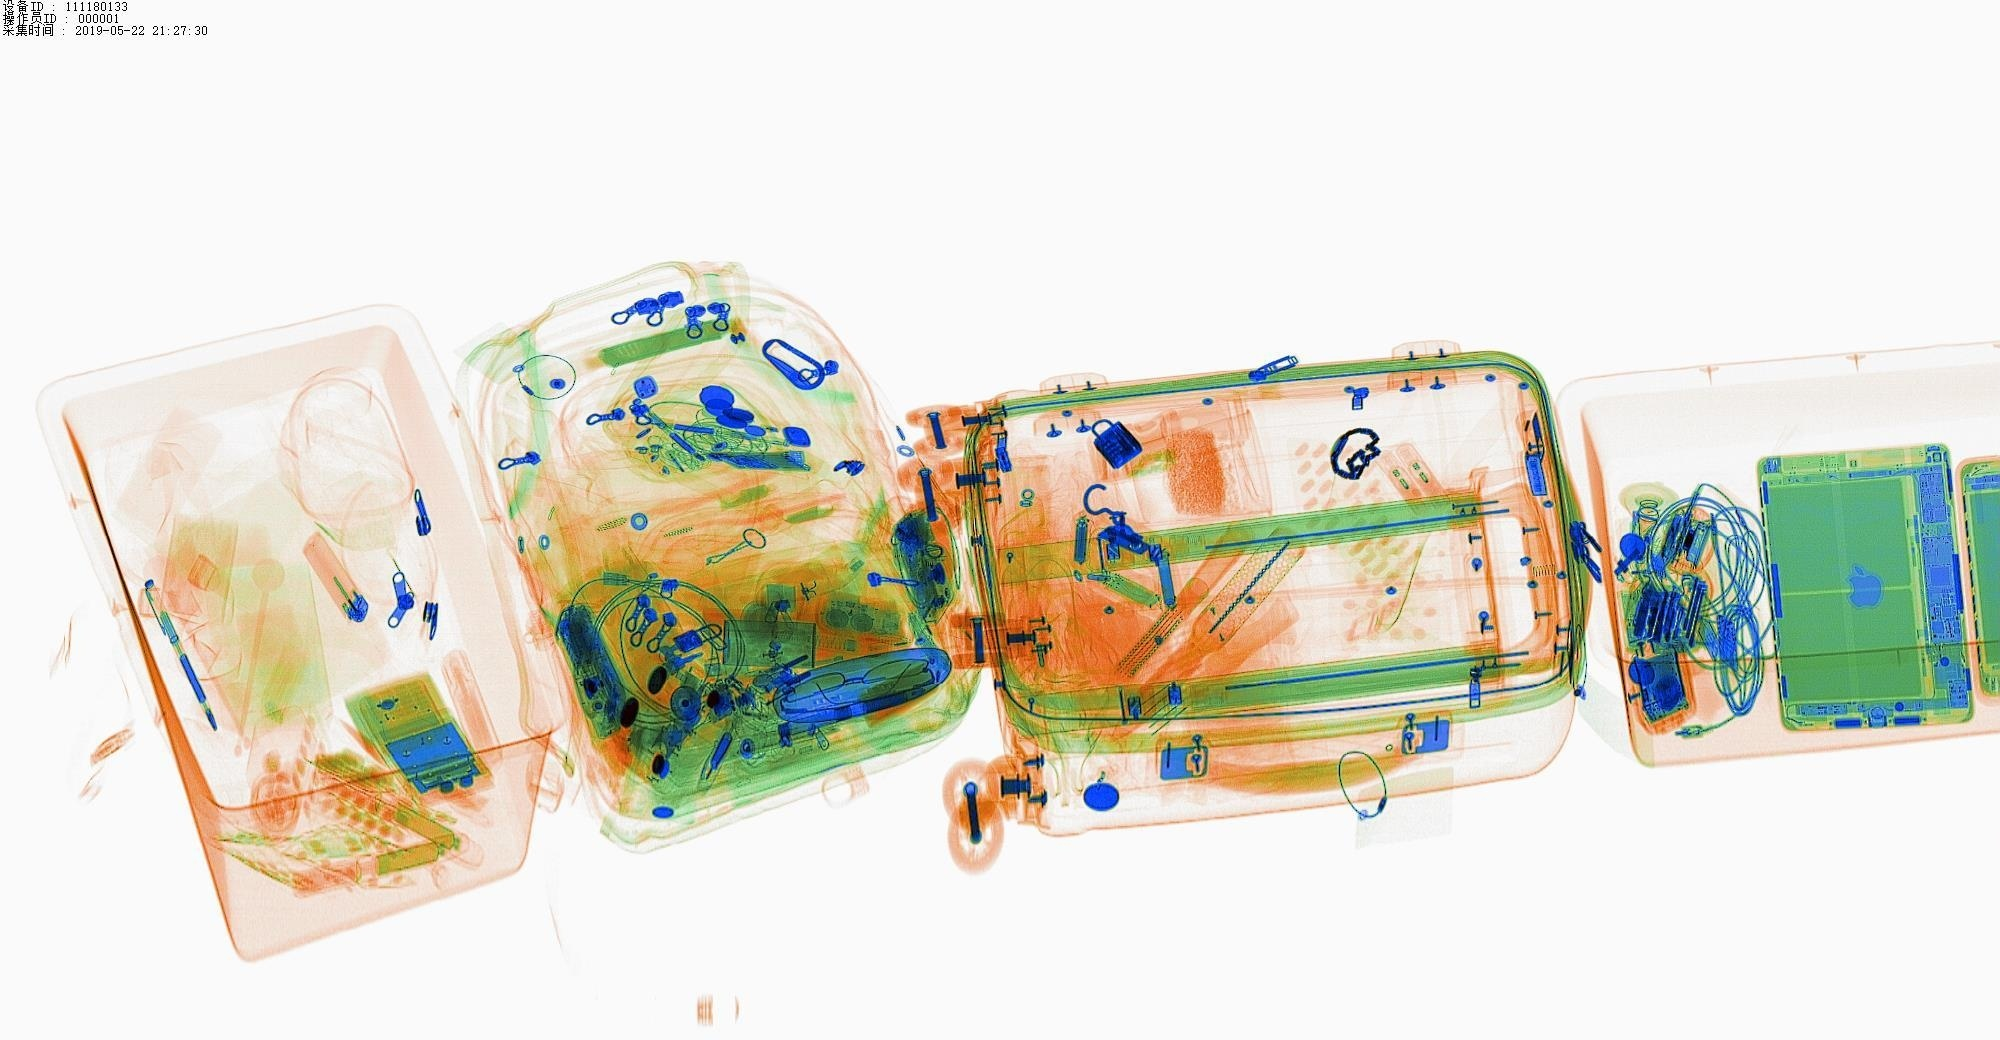NonmetallicFire: (308, 535, 369, 640)
